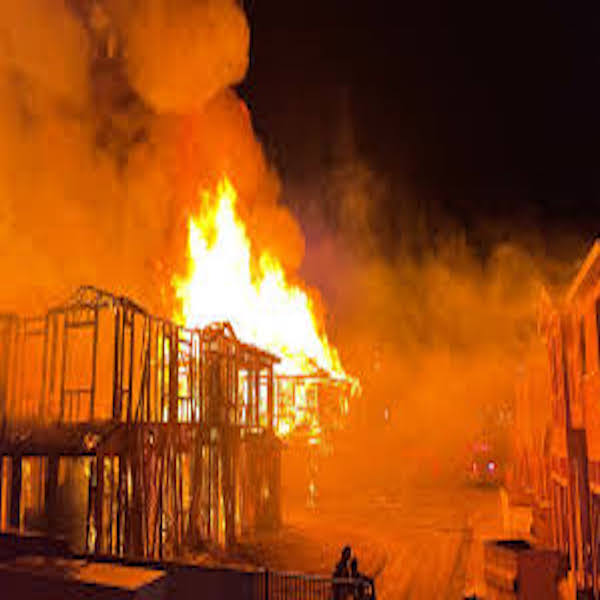fire: (177, 197, 357, 373), (240, 373, 363, 446)
